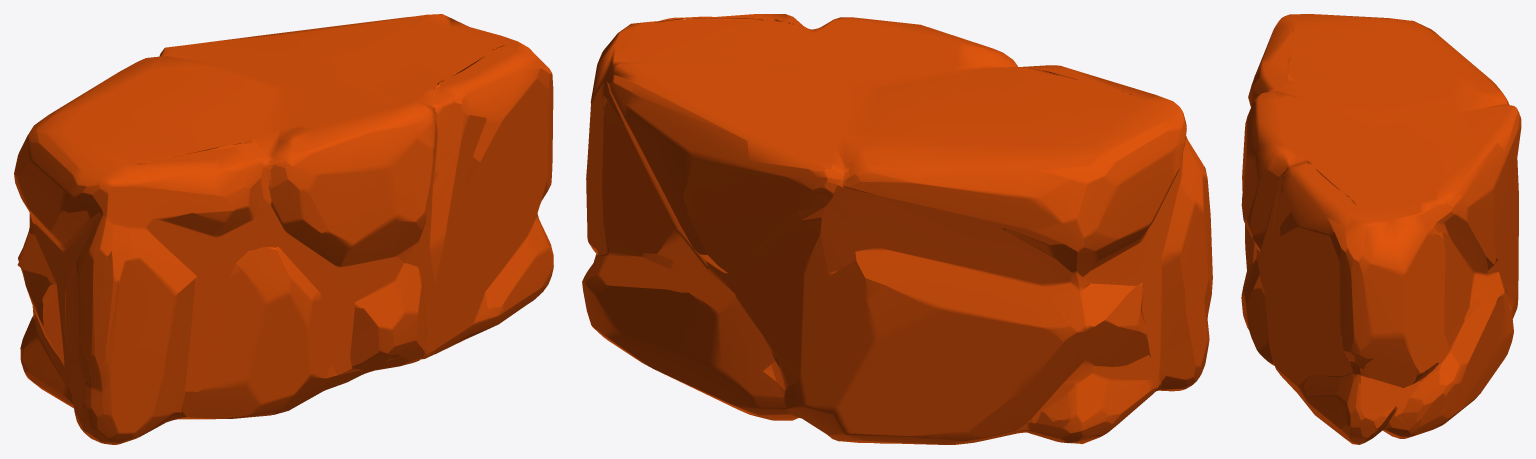
3 views of the same model, side by side, from view 1: azimuth 30°, elevation 25°; view 2: azimuth 150°, elevation 25°; view 3: azimuth 270°, elevation 25° (orthographic). The views are drawn at different scales.
Visible parts, largest first — view 1: Mesh_62_LOD0; view 2: Mesh_62_LOD0; view 3: Mesh_62_LOD0.
Boxes of the visible parts, x1,y1,x2,y2 form: Mesh_62_LOD0: [14, 14, 553, 444]; Mesh_62_LOD0: [582, 14, 1212, 444]; Mesh_62_LOD0: [1241, 14, 1521, 444].
Size of what is drawn, in the model's own units: 2193 by 1131 by 1180.
